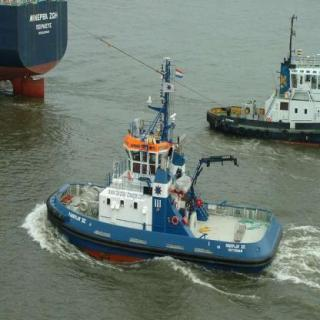Tug Boat: (51, 122, 285, 272)
